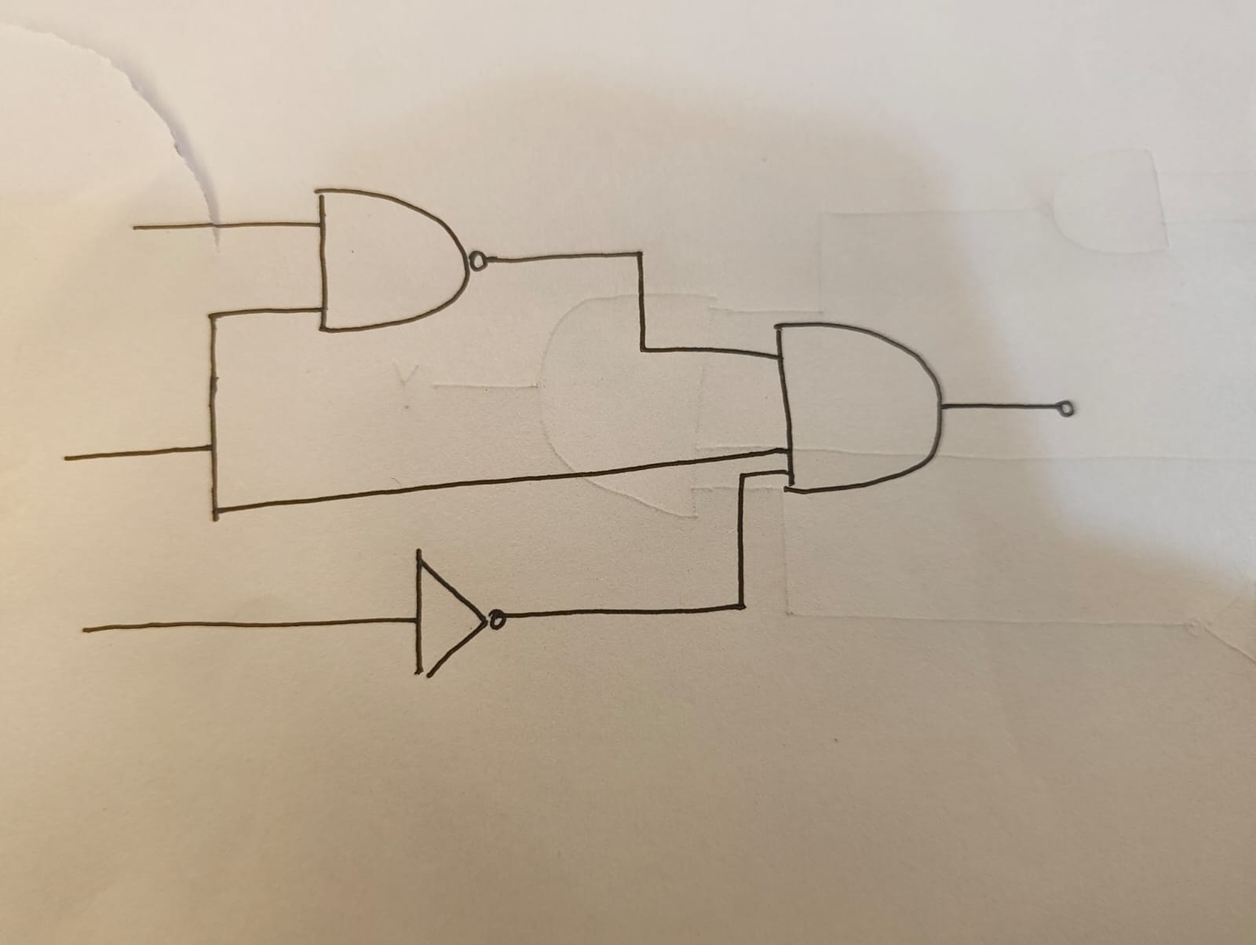and gate: (773, 317, 961, 504)
nand gate: (312, 183, 501, 338)
not gate: (408, 551, 513, 696)
